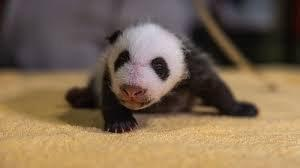bear: (67, 23, 259, 134)
